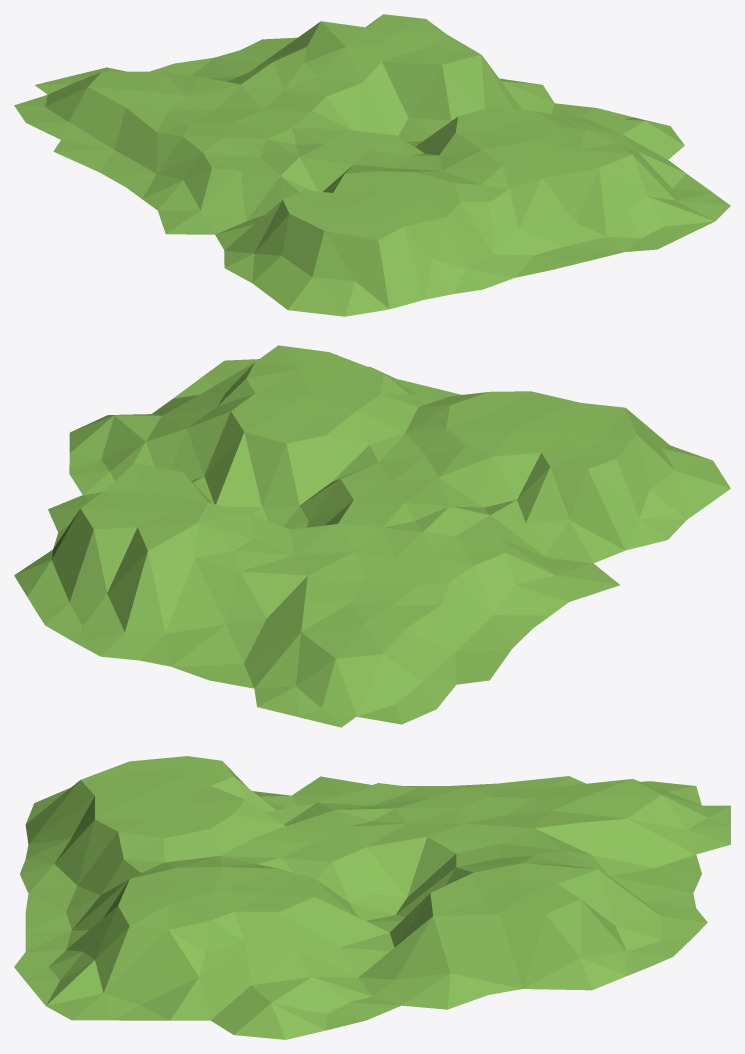
Rendered from MT_Mountain_M_b_15_LOD.fbx.
The picture shows the model from 3 angles, top to bottom: view 1: azimuth 30°, elevation 25°; view 2: azimuth 150°, elevation 25°; view 3: azimuth 270°, elevation 25°; orthographic projection. The views are drawn at different scales.
Parts seen in each view (by area): view 1: MT_Mountain_M_b_15_LOD0; view 2: MT_Mountain_M_b_15_LOD0; view 3: MT_Mountain_M_b_15_LOD0.
Part boxes in pixels (x1,y1,x2,y2): MT_Mountain_M_b_15_LOD0: (14, 14, 730, 316); MT_Mountain_M_b_15_LOD0: (14, 345, 730, 727); MT_Mountain_M_b_15_LOD0: (14, 756, 730, 1039).
Size of what is drawn, in the model's own units: 4219 by 450 by 4844.
